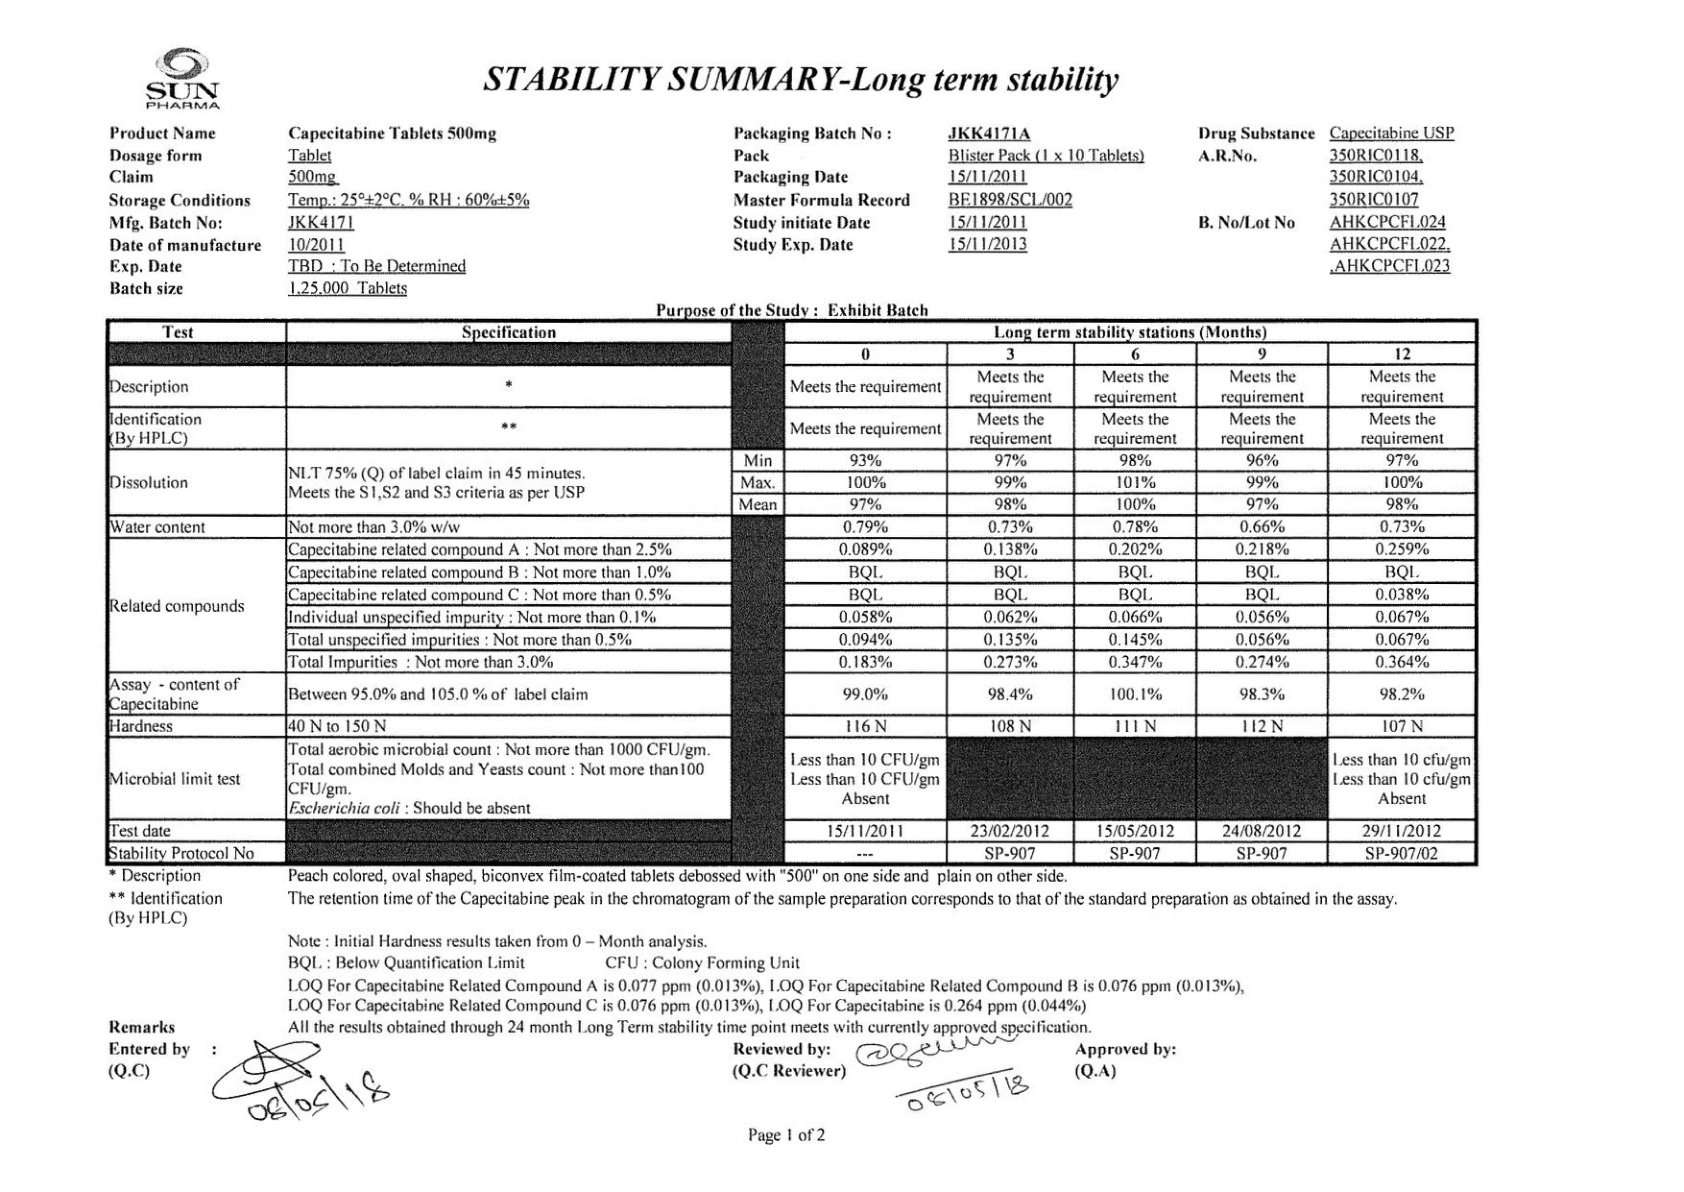merged_cells: (104, 317, 1479, 867)
nolines: (107, 124, 533, 299), (732, 124, 1148, 254), (1197, 123, 1454, 276)
